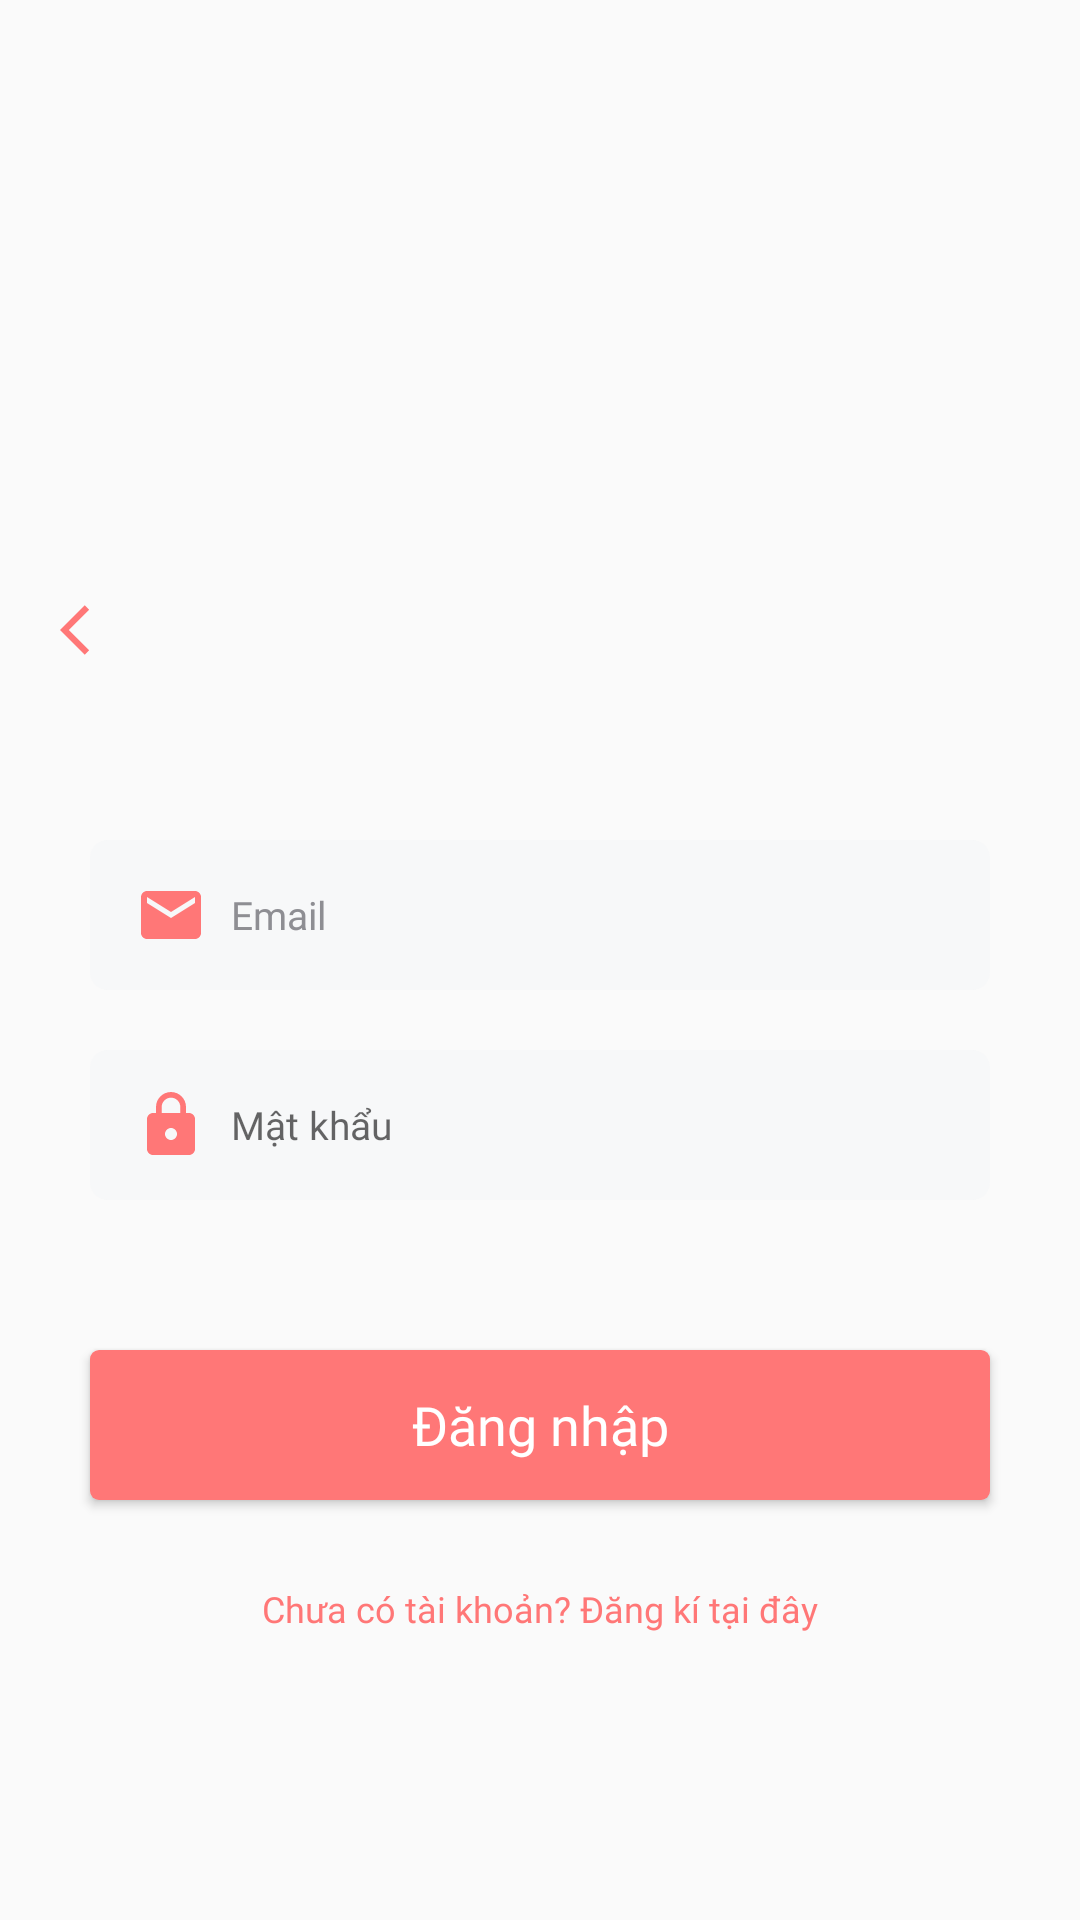

Where to tap for icons on this 1080px x 1920px app screen, as (x=x, y=y):
arrow back: (x=74, y=630)
